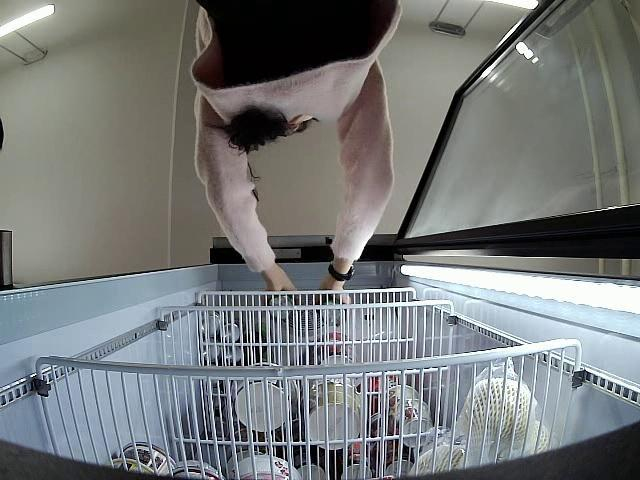18_trevi: (319, 298, 346, 326), (268, 294, 292, 320)
